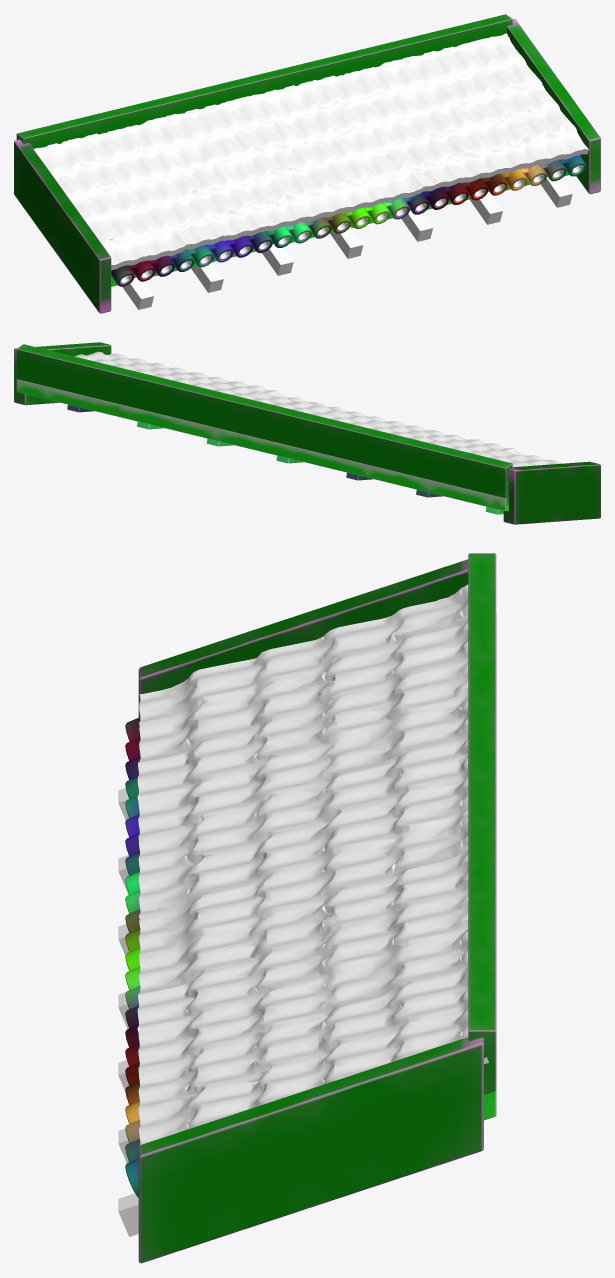
File: overhang_slope_100_01_standalone.fbx
3 views of the same model, one above another, from view 1: azimuth 30°, elevation 25°; view 2: azimuth 150°, elevation 25°; view 3: azimuth 270°, elevation 25° (orthographic). The views are drawn at different scales.
Visible parts, largest first — view 1: overhang_slope_100_01_standalone; view 2: overhang_slope_100_01_standalone; view 3: overhang_slope_100_01_standalone.
Boxes of the visible parts, box(x1,y1,x2,y2) form: overhang_slope_100_01_standalone: box(14, 14, 600, 313); overhang_slope_100_01_standalone: box(14, 342, 600, 524); overhang_slope_100_01_standalone: box(118, 553, 496, 1263).
Size of the model in its own units: 4.1 by 0.9122 by 1.34.
